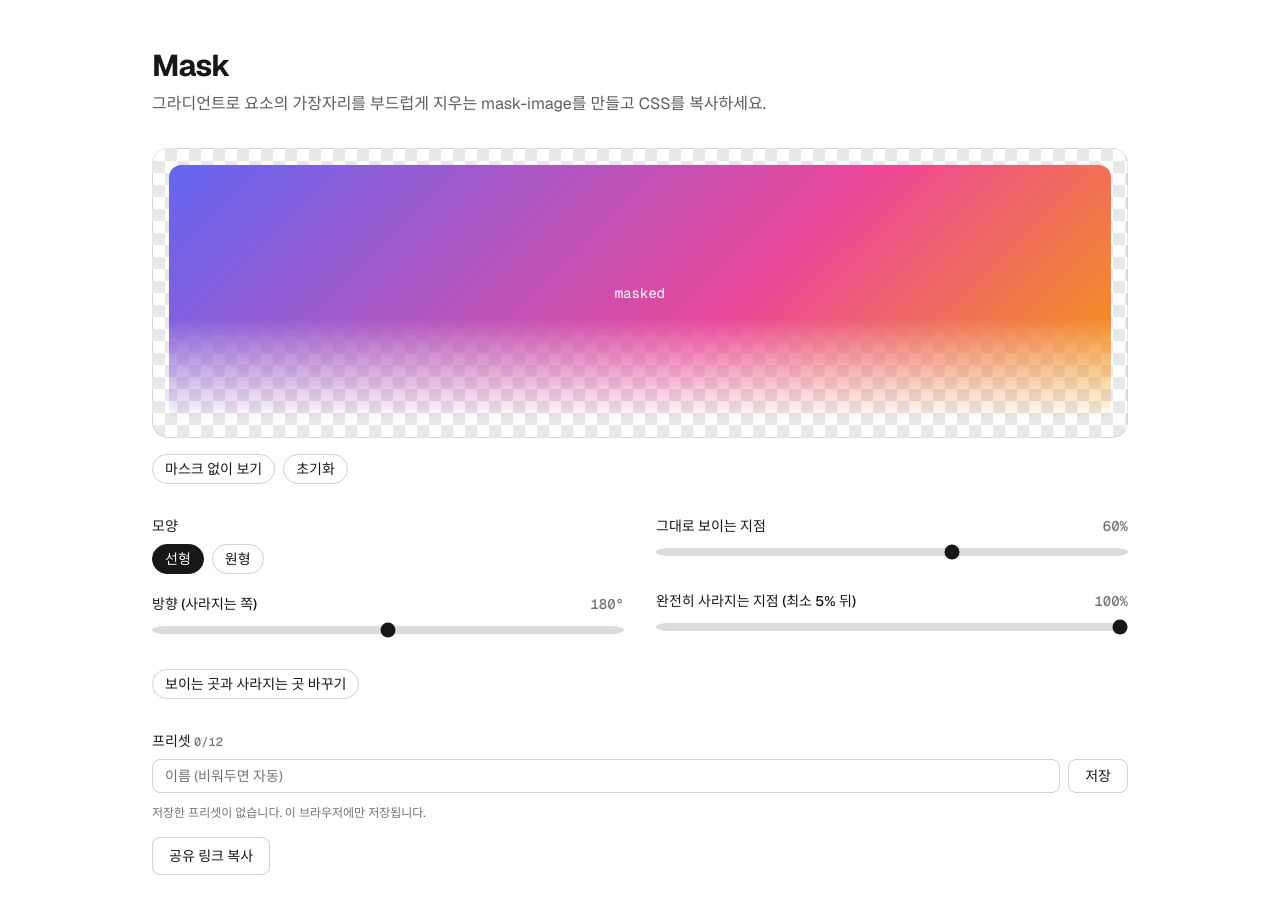
it: MaskMaker › 원형으로 바꾸면 방향 슬라이더가 꺼지고 radial-gradient가 나온다
Check: the slider labelled "방향 (사라지는 쪽) 180°" is enabled, box top-left (152, 618), bottom-right (624, 642)
Click the button "원형" at (238, 559), box top-left (212, 544), bottom-right (264, 574)
(page scrolled)
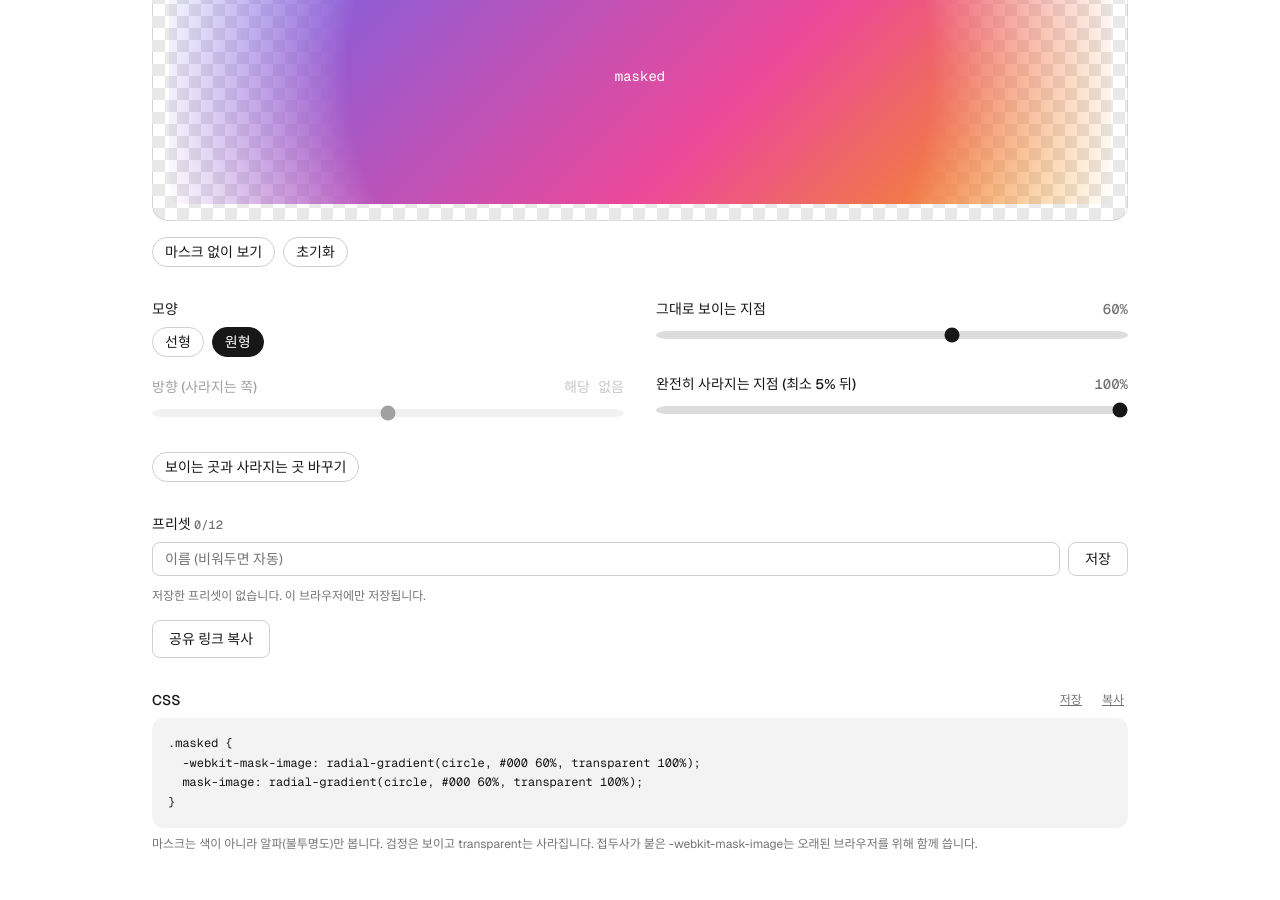
Check: the slider labelled "방향 (사라지는 쪽) 해당 없음" is disabled, box top-left (152, 401), bottom-right (624, 425)
Check: the text named "CSS 코드" shows "radial-gradient(circle, #000 60%, transparent 100%)", box top-left (168, 735), bottom-right (701, 810)
